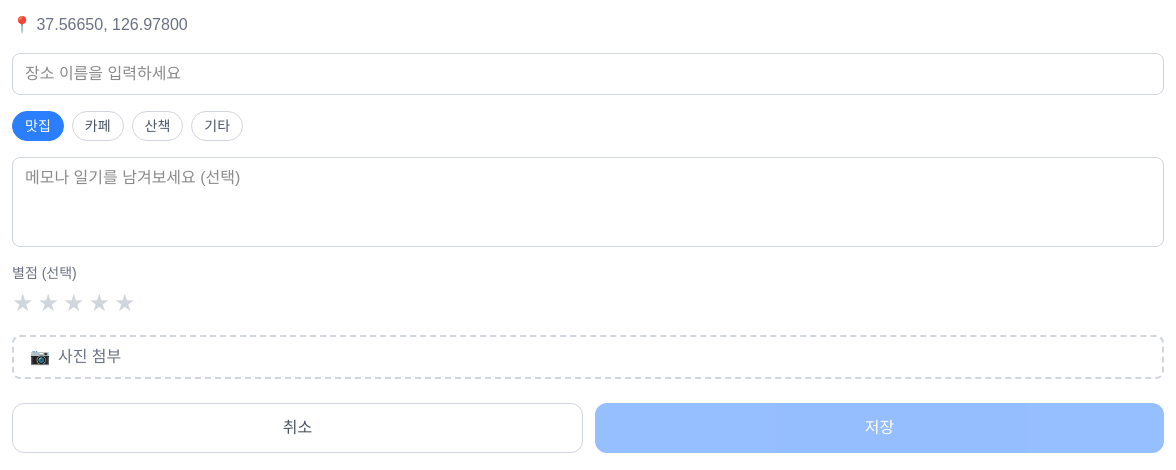
Test: NewPlaceSheet › 이름 입력 후 저장 버튼이 활성화된다
Type "맛있는 식당" into the field with placeholder "장소 이름을 입력하세요" at (588, 74), box 12,53 -> 1164,95
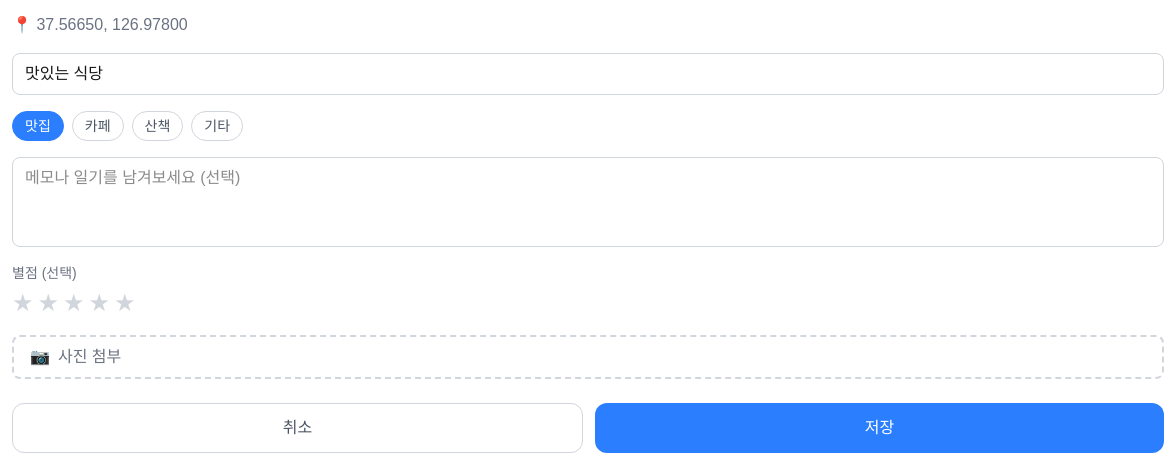
expect the button "저장" is enabled: met, box 595,403 -> 1164,453
